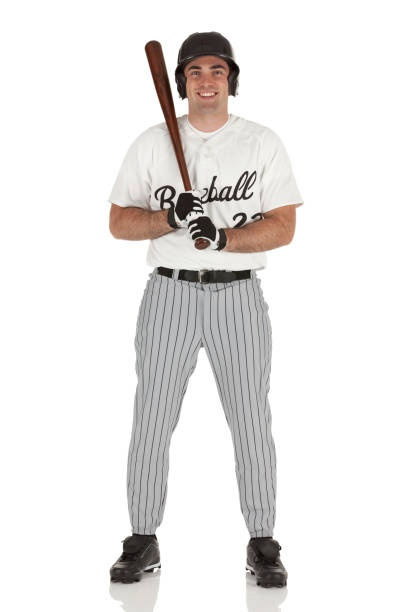bita: (145, 39, 201, 246)
